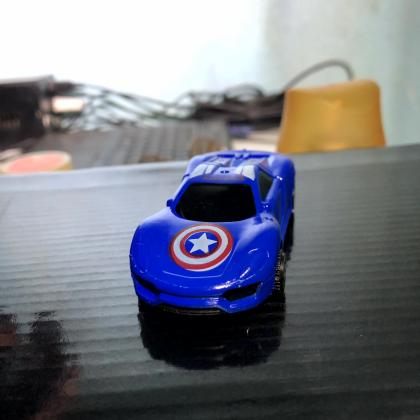Car: (129, 151, 296, 322)
